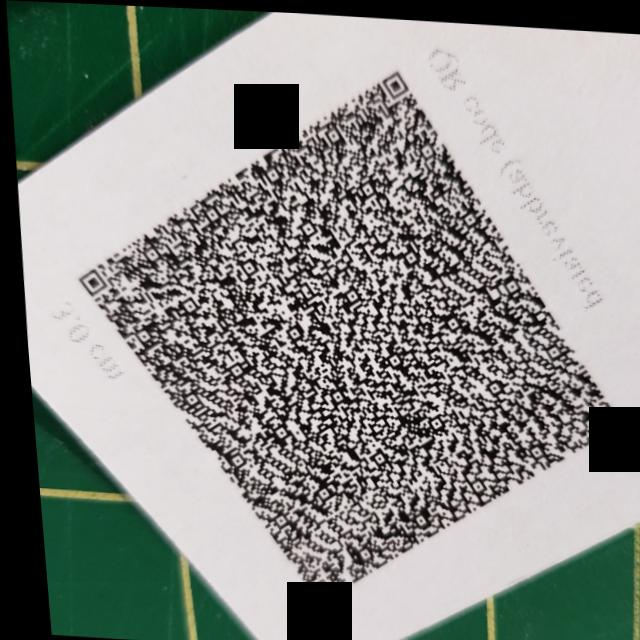QR_CODE: (39, 39, 640, 635)
